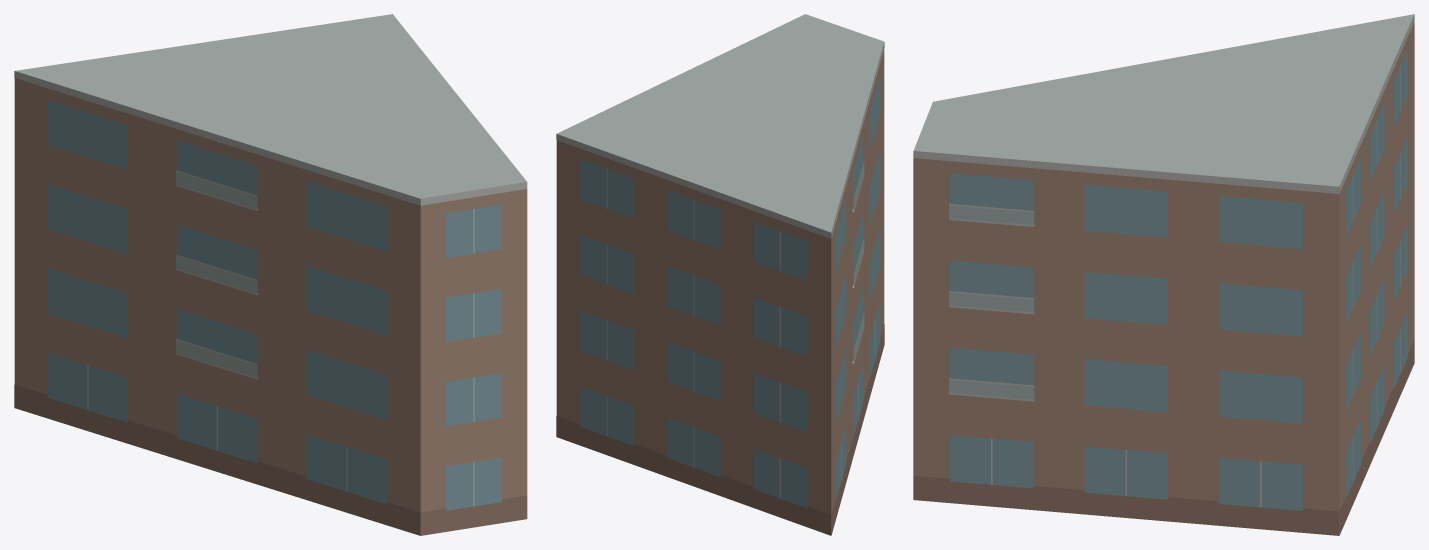
The model's file is survey-upis-32966375.glb.
3 views of the same model, side by side, from view 1: azimuth 30°, elevation 25°; view 2: azimuth 150°, elevation 25°; view 3: azimuth 270°, elevation 25° (orthographic). The views are drawn at different scales.
Visible parts, largest first — view 1: survey-upis-32966375.tmp; view 2: survey-upis-32966375.tmp; view 3: survey-upis-32966375.tmp.
Part boxes in pixels (x1,y1,x2,y2): survey-upis-32966375.tmp: (14,14,527,535); survey-upis-32966375.tmp: (556,14,884,535); survey-upis-32966375.tmp: (913,14,1414,535).
Bounding box in the file's own units: 12.53 × 11.8 × 15.36.
